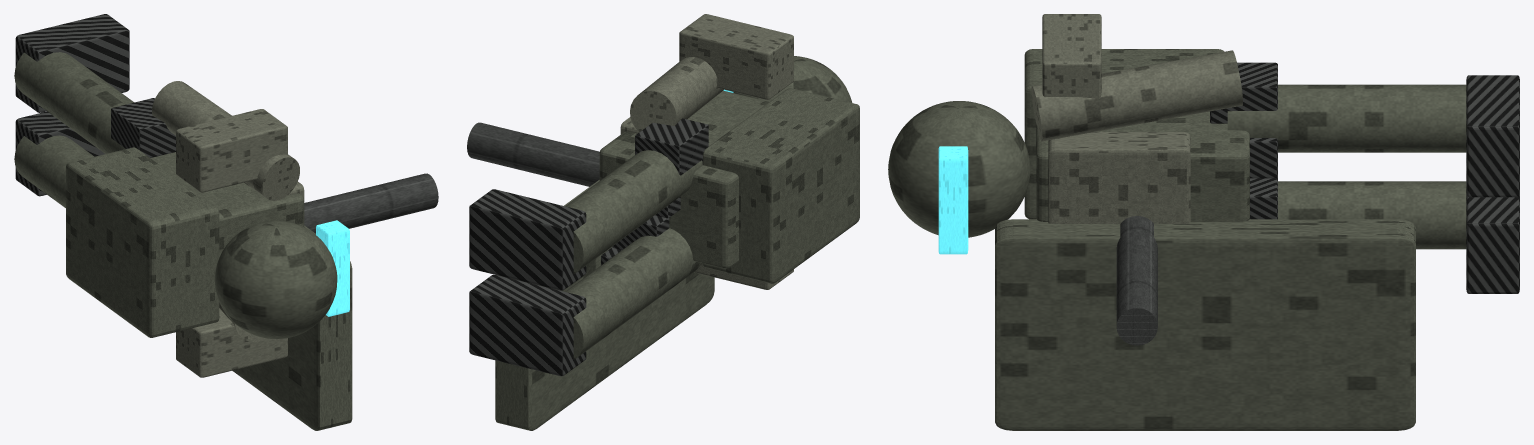
File: v-u10-vanguard-operator-lod0.glb
The picture shows the model from 3 angles, left to right: view 1: azimuth 30°, elevation 25°; view 2: azimuth 150°, elevation 25°; view 3: azimuth 270°, elevation 25°; orthographic projection. The views are drawn at different scales.
Visible parts, largest first — view 1: soldier_0_backpack, soldier_0_helmet, ballistic_shield, soldier_0_shoulder_1, soldier_0_leg_1, soldier_0_boot_1, soldier_0_rifle, soldier_0_shoulder_-1, soldier_0_arm_1, soldier_0_torso, soldier_0_leg_-1, soldier_0_pouch_3 (+2 smaller); view 2: soldier_0_backpack, ballistic_shield, soldier_0_boot_-1, soldier_0_boot_1, soldier_0_torso, soldier_0_leg_-1, soldier_0_leg_1, soldier_0_shoulder_1, soldier_0_rifle, soldier_0_arm_1, soldier_0_pouch_3, soldier_0_helmet (+2 smaller); view 3: ballistic_shield, soldier_0_leg_1, soldier_0_chest, soldier_0_helmet, soldier_0_arm_1, soldier_0_leg_-1, soldier_0_torso, soldier_0_boot_1, soldier_0_boot_-1, soldier_0_rifle, soldier_0_shoulder_1, soldier_0_backpack (+4 smaller).
Boxes of the visible parts, x1,y1,x2,y2 form: soldier_0_backpack: (66,147,219,337); soldier_0_helmet: (215,220,337,339); ballistic_shield: (232,225,352,430); soldier_0_shoulder_1: (176,109,287,192); soldier_0_leg_1: (14,52,134,153); soldier_0_boot_1: (15,14,129,112); soldier_0_rifle: (304,173,438,233); soldier_0_shoulder_-1: (176,308,287,377); soldier_0_arm_1: (152,81,299,200); soldier_0_torso: (150,152,304,302); soldier_0_leg_-1: (14,135,94,207); soldier_0_pouch_3: (111,98,175,157); soldier_0_backpack: (702,88,859,283); ballistic_shield: (495,180,714,430); soldier_0_boot_-1: (469,274,586,376); soldier_0_boot_1: (469,189,586,290); soldier_0_torso: (599,90,768,268); soldier_0_leg_-1: (565,228,700,359); soldier_0_leg_1: (565,150,702,273); soldier_0_shoulder_1: (679,14,793,99); soldier_0_rifle: (467,122,599,186); soldier_0_arm_1: (630,57,723,131); soldier_0_pouch_3: (635,118,708,175); soldier_0_helmet: (733,56,852,102); ballistic_shield: (995,219,1415,430); soldier_0_leg_1: (1227,84,1466,152); soldier_0_chest: (1048,132,1190,223); soldier_0_helmet: (888,101,1030,237); soldier_0_arm_1: (1031,50,1242,141); soldier_0_leg_-1: (1278,181,1466,249); soldier_0_torso: (1036,111,1249,221); soldier_0_boot_1: (1466,75,1519,197); soldier_0_boot_-1: (1466,193,1519,293); soldier_0_rifle: (1116,216,1157,345); soldier_0_shoulder_1: (1042,14,1101,98); soldier_0_backpack: (1024,49,1223,219).
Size of what is drawn, in the model's own units: 1.48 by 1.28 by 2.13.
5 materials, 5 textured.
